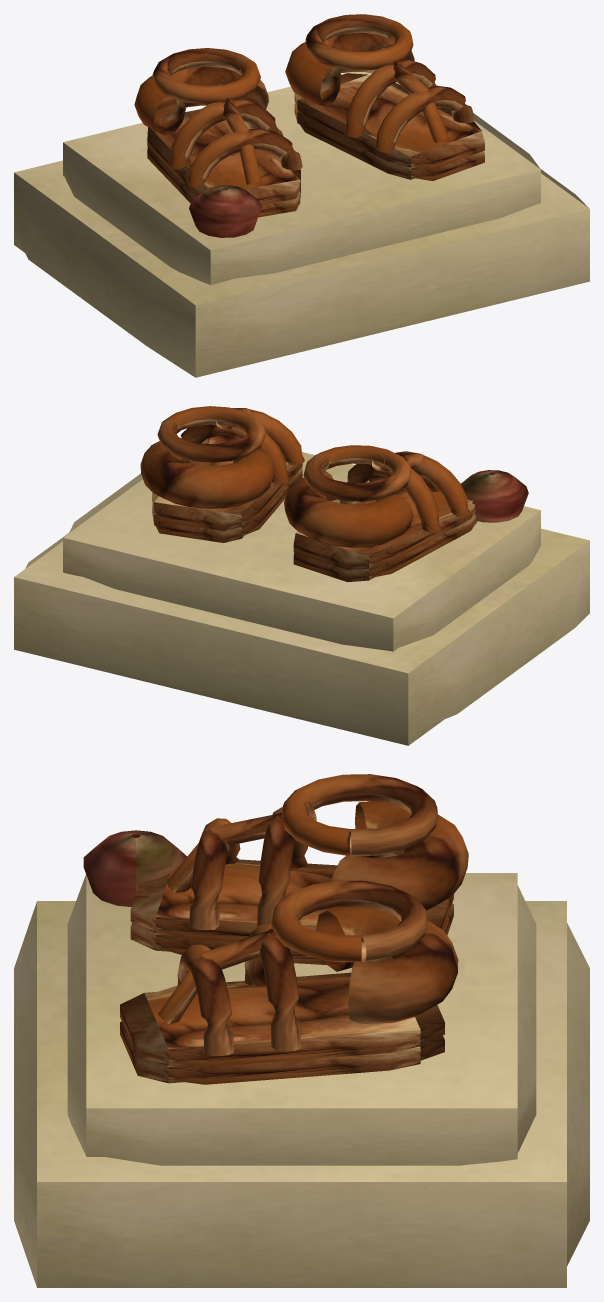
File: childs-sandals.glb
The picture shows the model from 3 angles, top to bottom: view 1: azimuth 30°, elevation 25°; view 2: azimuth 150°, elevation 25°; view 3: azimuth 270°, elevation 25°; orthographic projection. The views are drawn at different scales.
Parts seen in each view (by area): view 1: HeroRelicMonument; view 2: HeroRelicMonument; view 3: HeroRelicMonument.
Part boxes in pixels (x1,y1,x2,y2): HeroRelicMonument: (14,14,589,377); HeroRelicMonument: (14,406,589,745); HeroRelicMonument: (14,774,589,1287).
Size of the model in its own units: 1.48 by 0.6666 by 1.18.
Materials: 1 (1 with a texture image).
